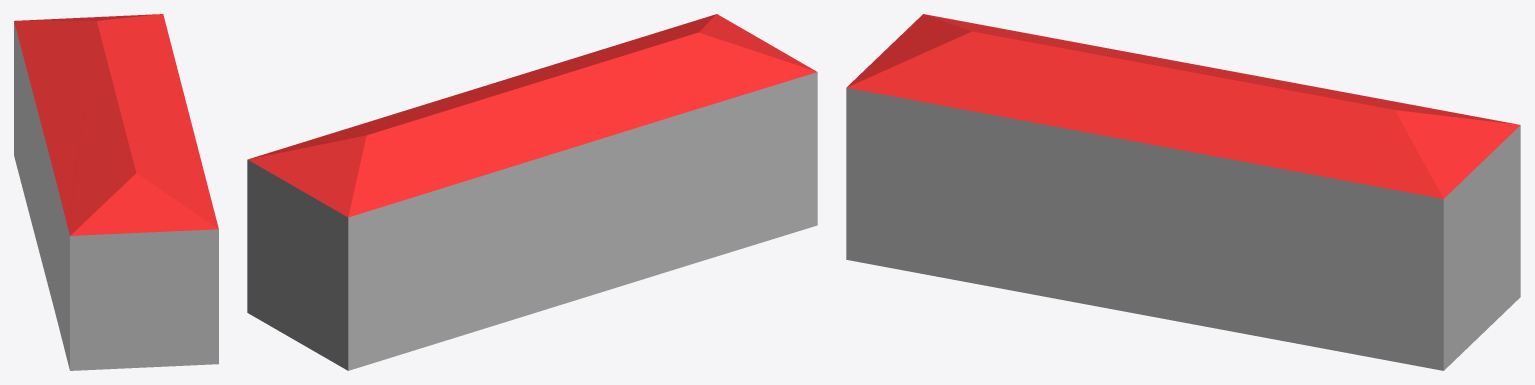
Rendered from DEBY_LOD2_4959323.dae.
3 renders of one model, left to right at view 1: azimuth 30°, elevation 25°; view 2: azimuth 150°, elevation 25°; view 3: azimuth 270°, elevation 25°, orthographic. The views are drawn at different scales.
Bounding box in the file's own units: 44.38 × 68.39 × 23.23.
